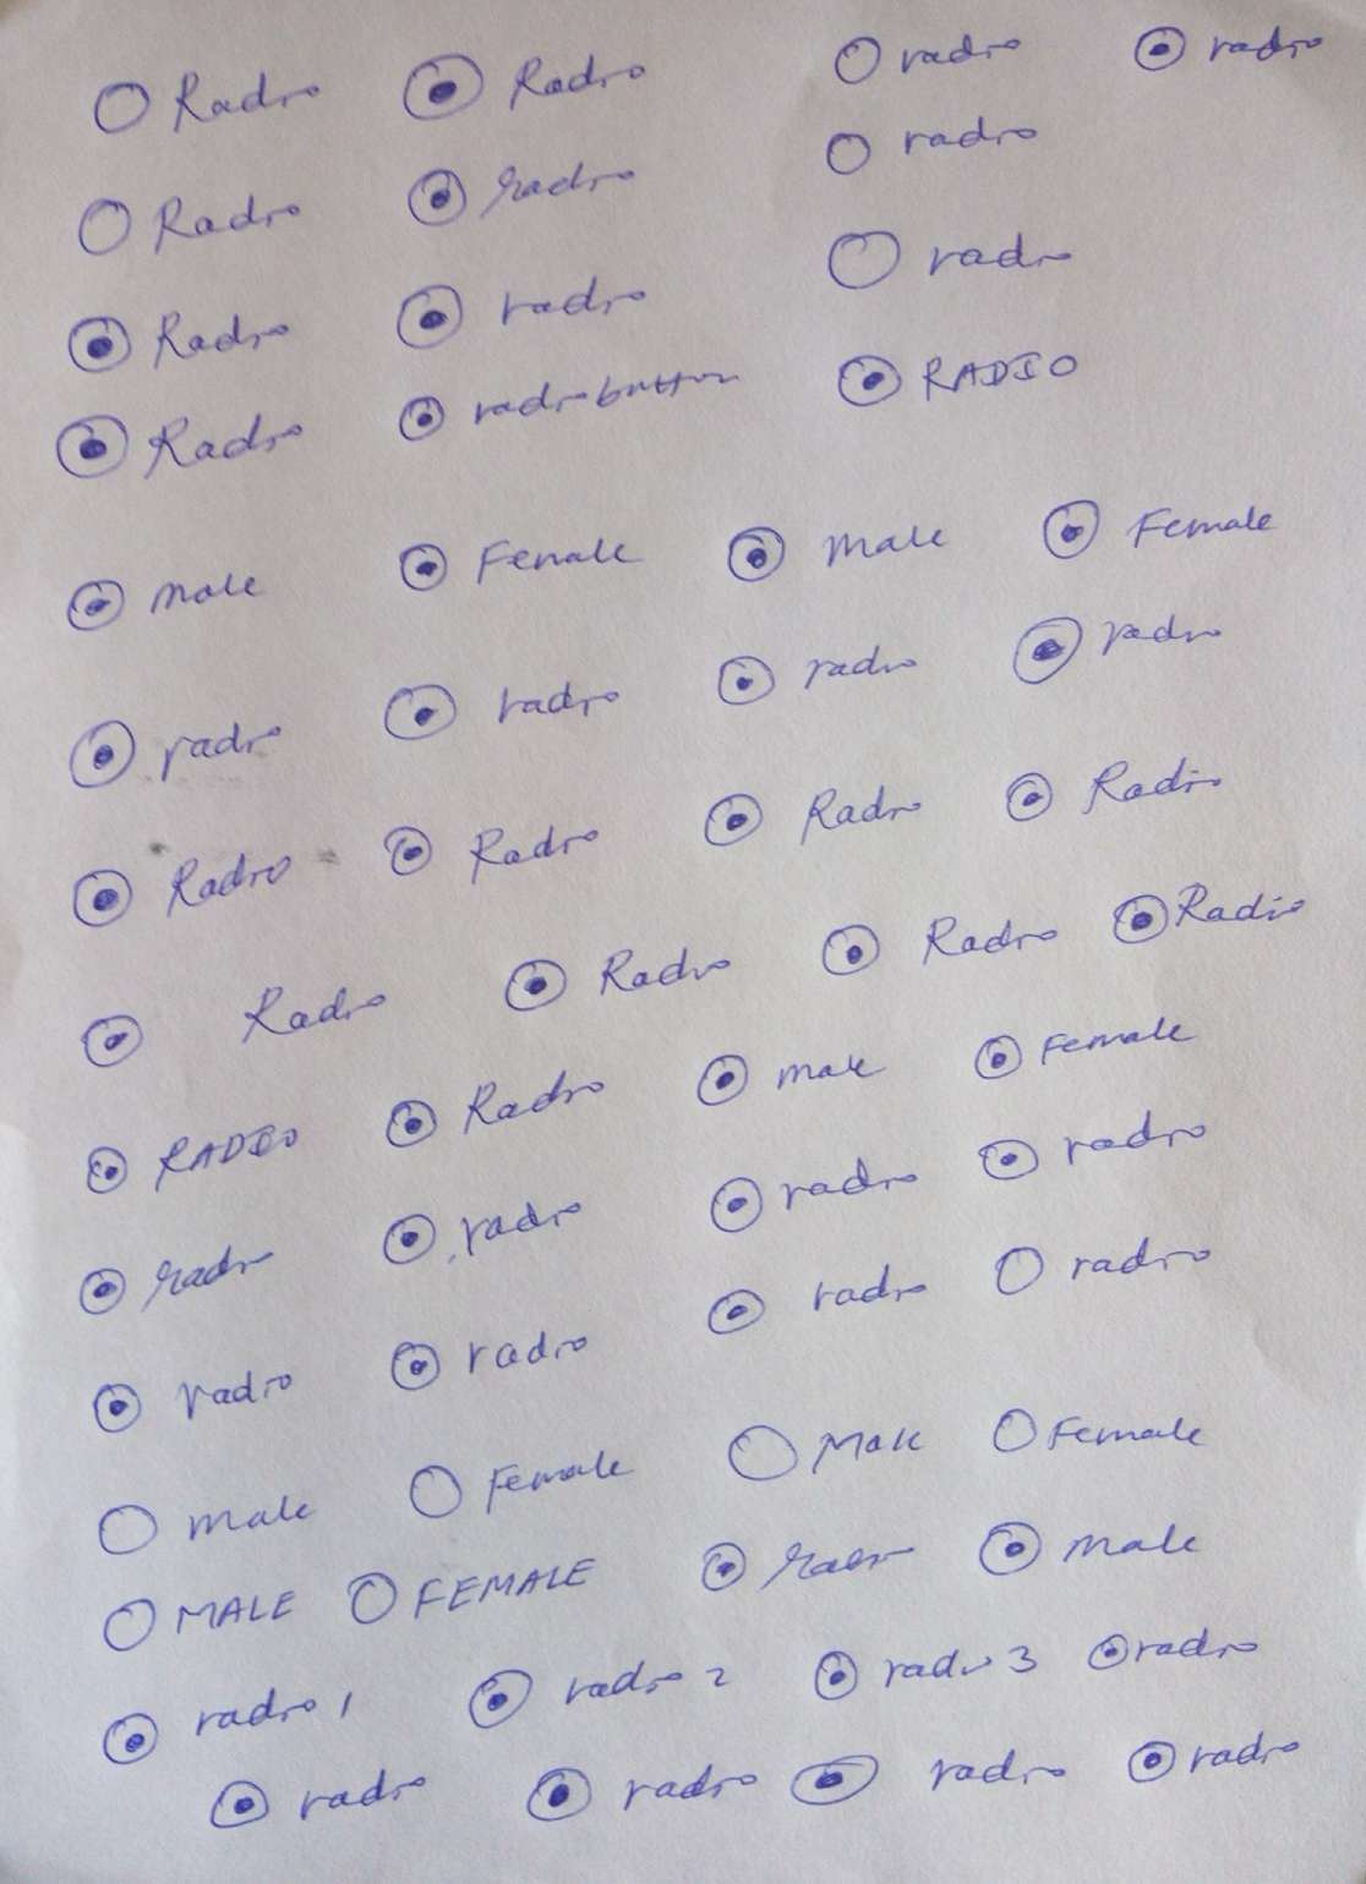Radio Button: (75, 973, 407, 1072), (393, 366, 746, 442), (99, 1687, 361, 1768), (462, 1657, 737, 1735), (396, 47, 652, 124), (396, 275, 649, 353), (788, 1745, 1073, 1812), (342, 1555, 601, 1628), (53, 408, 304, 483), (91, 63, 326, 142), (69, 845, 294, 927), (816, 910, 1066, 983), (385, 1068, 607, 1150), (499, 938, 733, 1015), (66, 712, 290, 793), (977, 1107, 1212, 1183), (407, 155, 646, 228), (83, 1118, 301, 1197), (812, 1632, 1035, 1708), (703, 1265, 935, 1338), (826, 225, 1076, 293), (377, 673, 622, 742), (379, 818, 607, 889), (521, 1757, 766, 1823), (709, 1158, 921, 1235), (203, 1767, 431, 1837), (78, 1237, 279, 1316), (407, 1452, 633, 1523), (1041, 493, 1277, 560), (64, 306, 294, 374), (1000, 753, 1224, 824), (382, 1194, 586, 1268), (92, 1360, 297, 1435), (1009, 613, 1221, 685), (72, 193, 306, 257), (973, 1015, 1196, 1082), (725, 519, 952, 585), (97, 1488, 312, 1556), (702, 783, 926, 848), (992, 1233, 1217, 1297), (396, 535, 649, 592), (837, 348, 1079, 407), (977, 1515, 1202, 1578), (712, 644, 914, 712), (822, 113, 1041, 176), (698, 1537, 918, 1597), (1112, 881, 1307, 946), (101, 1587, 301, 1651), (727, 1420, 927, 1483), (989, 1403, 1204, 1460), (64, 572, 262, 633), (388, 1333, 589, 1393), (829, 28, 1027, 88), (1126, 1727, 1302, 1787), (1132, 20, 1329, 72), (696, 1052, 876, 1107), (1087, 1629, 1261, 1675)
